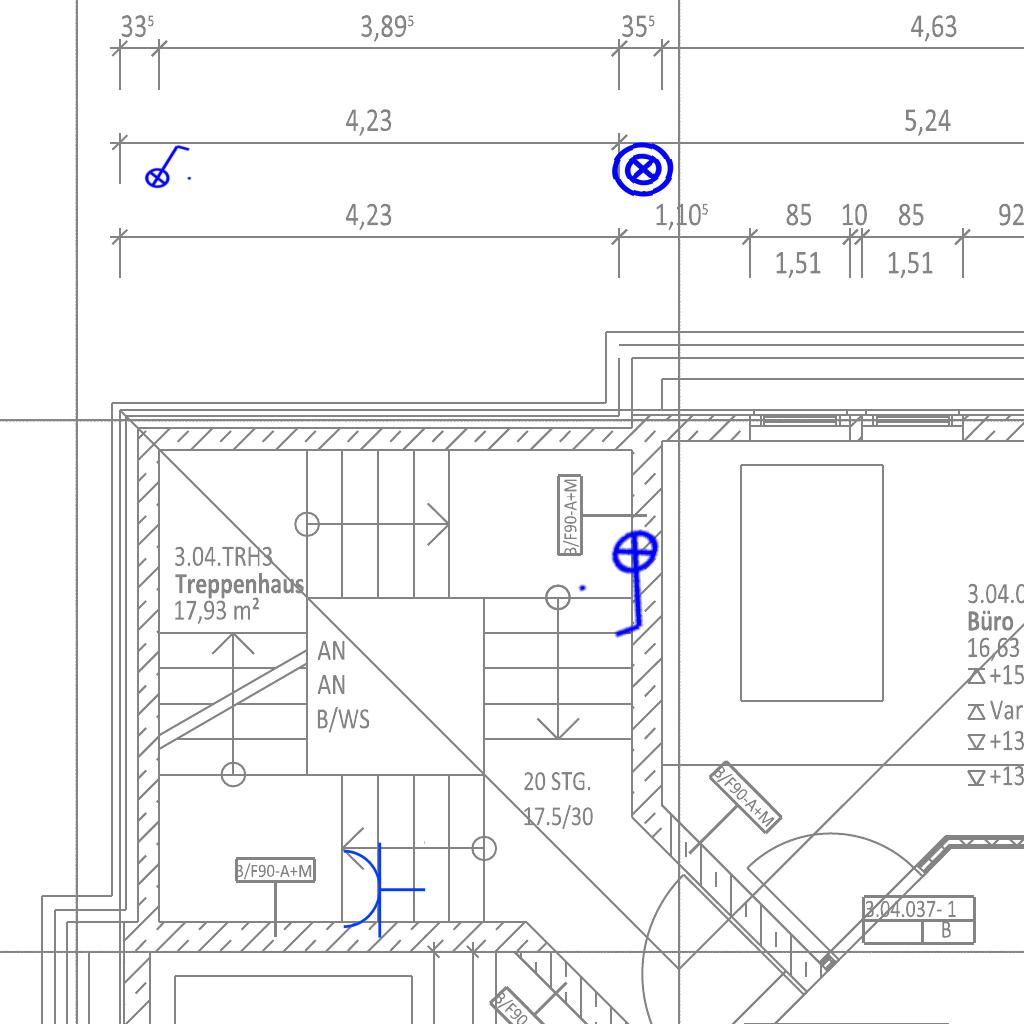Ausschalter_beleuchtet: (562, 511, 710, 655), (138, 141, 194, 189)
Schukosteckdose_einfach: (339, 839, 426, 939)
Taster_beleuchtet: (608, 134, 678, 204)
